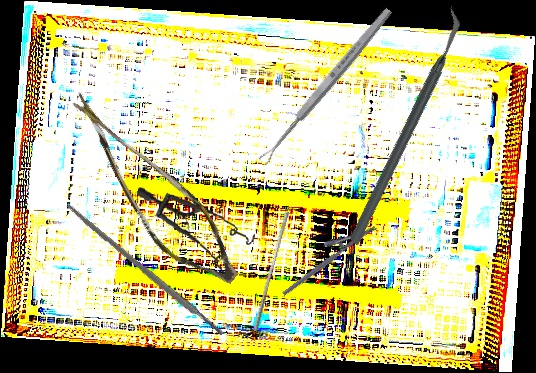Chopper: (278, 5, 531, 247)
Micro Scissor: (33, 90, 267, 297)
Needle Holder: (272, 212, 378, 297)
Pusher: (253, 210, 290, 333)
Scalpel Handle: (65, 202, 225, 339)
Speculum: (130, 186, 259, 281)
Surgical Spoon: (256, 5, 395, 167)
